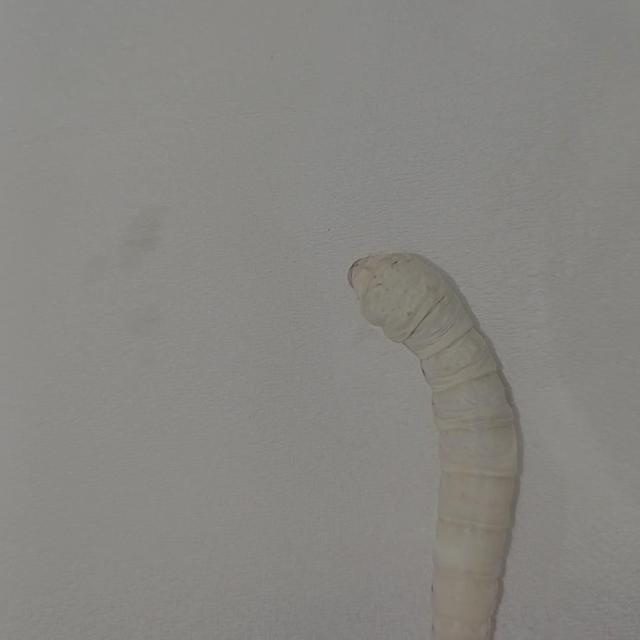Healthy: (339, 239, 556, 640)
